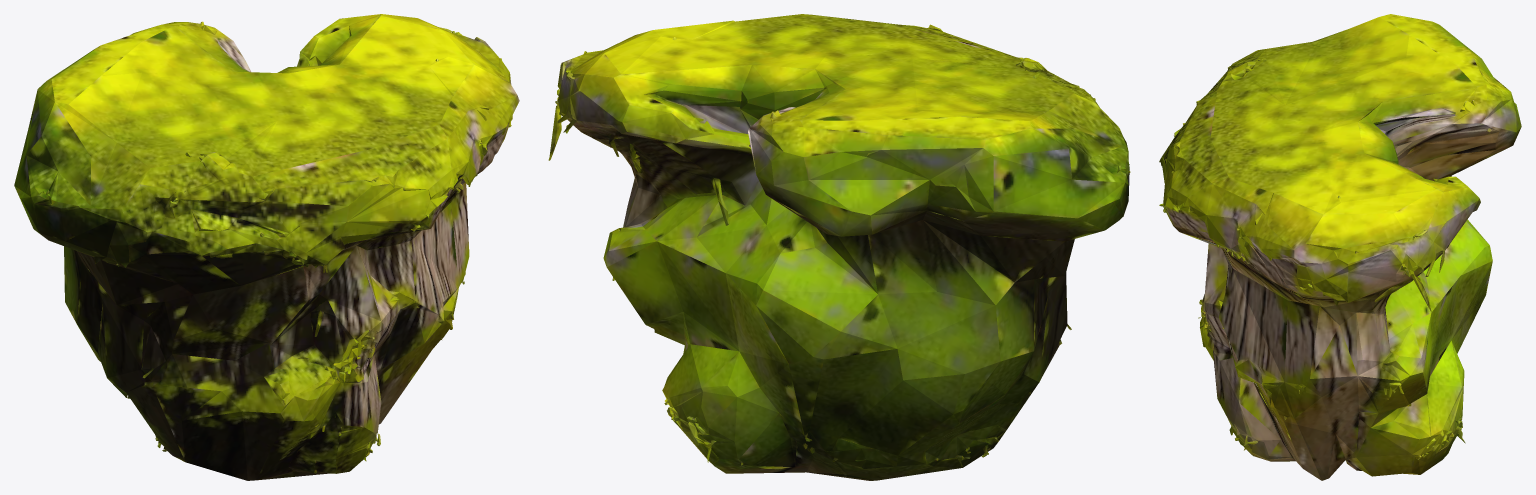
The model's file is swamp_moss_curtain_01.glb.
3 renders of one model, left to right at view 1: azimuth 30°, elevation 25°; view 2: azimuth 150°, elevation 25°; view 3: azimuth 270°, elevation 25°, orthographic. The views are drawn at different scales.
Parts seen in each view (by area): view 1: geometry_0; view 2: geometry_0; view 3: geometry_0.
Boxes of the visible parts, x1,y1,x2,y2 form: geometry_0: (14, 14, 519, 480); geometry_0: (548, 14, 1130, 480); geometry_0: (1159, 14, 1521, 480).
Bounding box in the file's own units: 0.995 × 0.7439 × 0.6899.
Materials: 1 (1 with a texture image).
